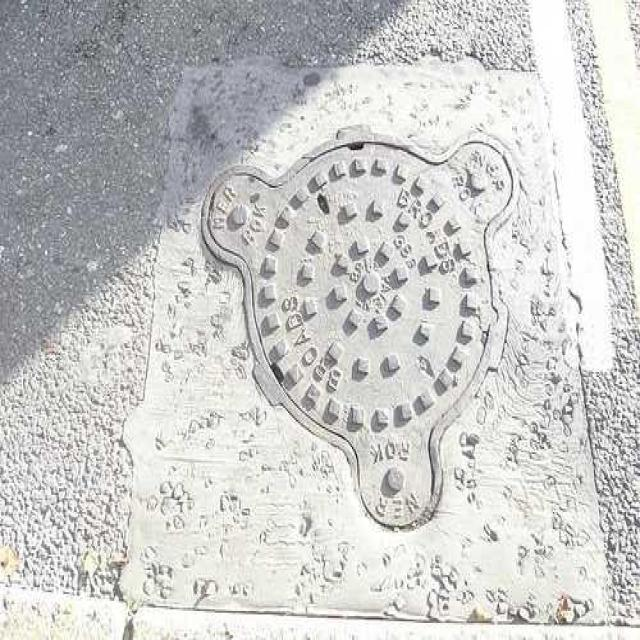manhole: (202, 137, 516, 528)
